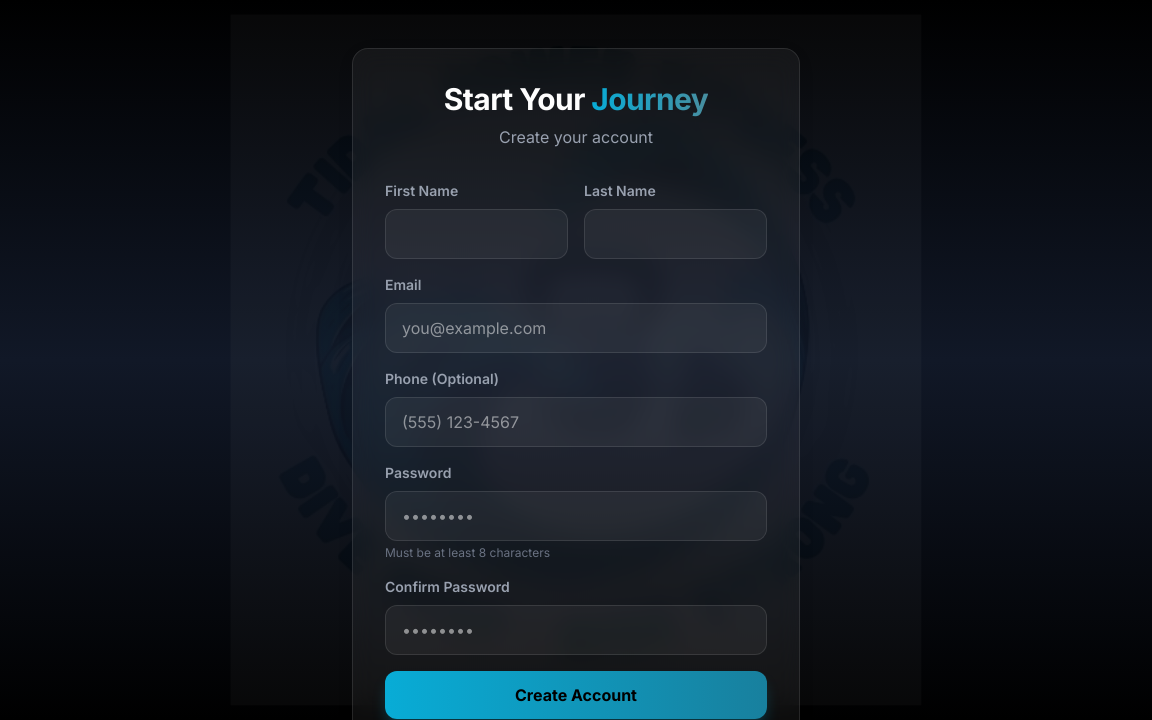
Test: RegisterPage › should show an error if passwords do not match
Type "John" into the field labelled "First Name". click: (476, 234)
box: [385,209,568,259]
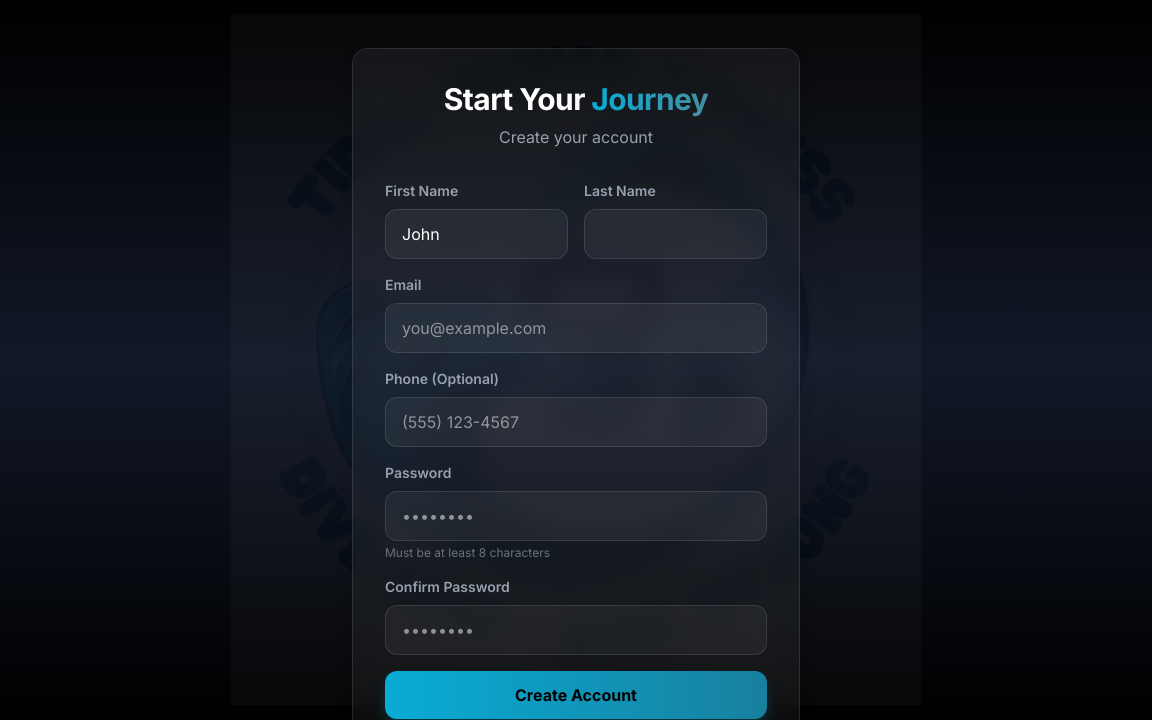
Type "Doe" into the field labelled "Last Name". click: (676, 234)
box: [584,209,767,259]
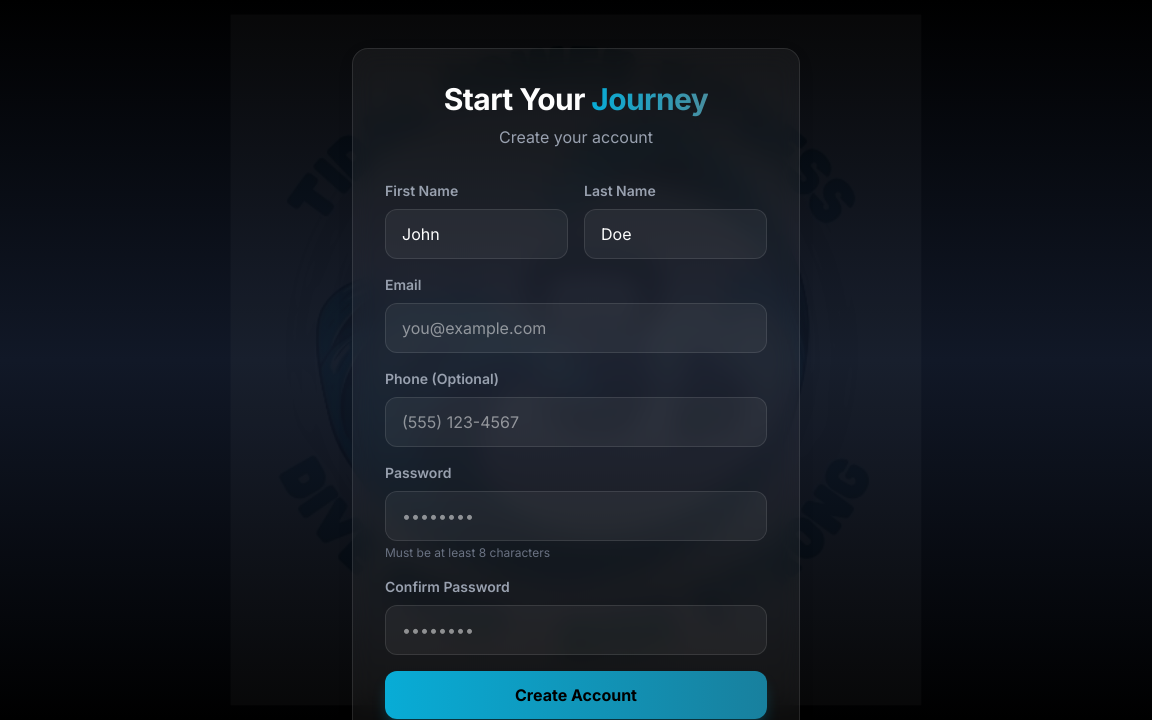
Type "john.doe@example.com" into the field labelled "Email". click: (576, 328)
box: [385,303,767,353]
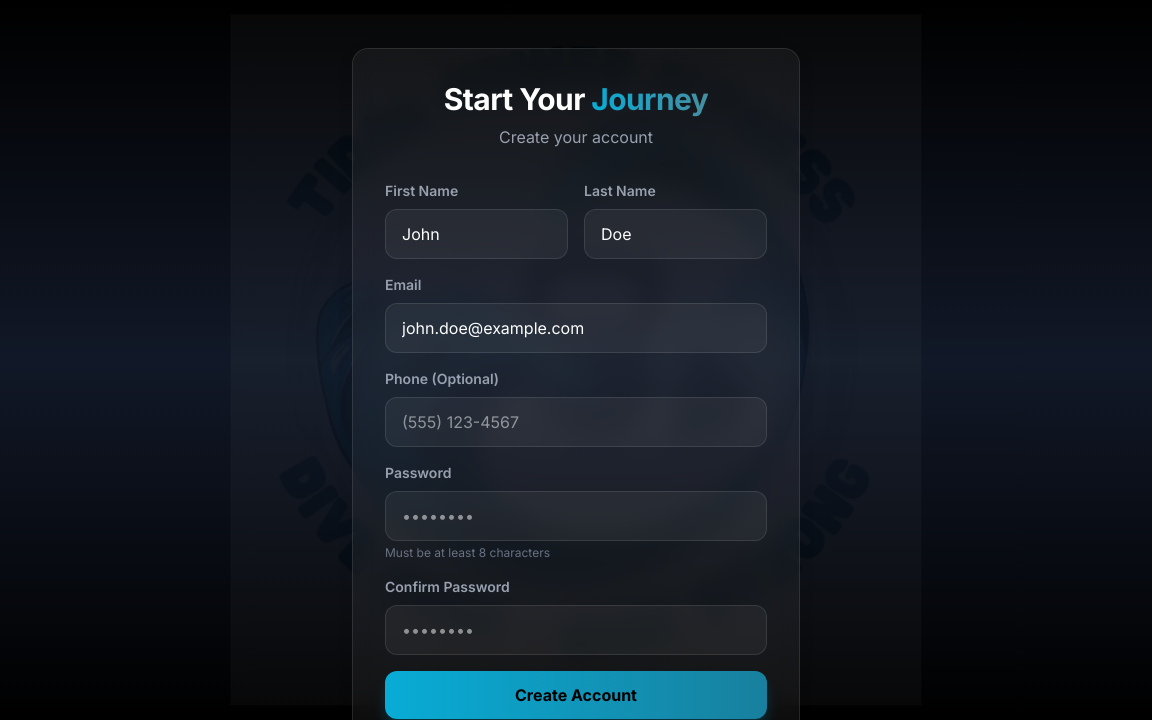
Type "password123" into the password field labelled "Password". click: (576, 516)
box: [385,491,767,541]
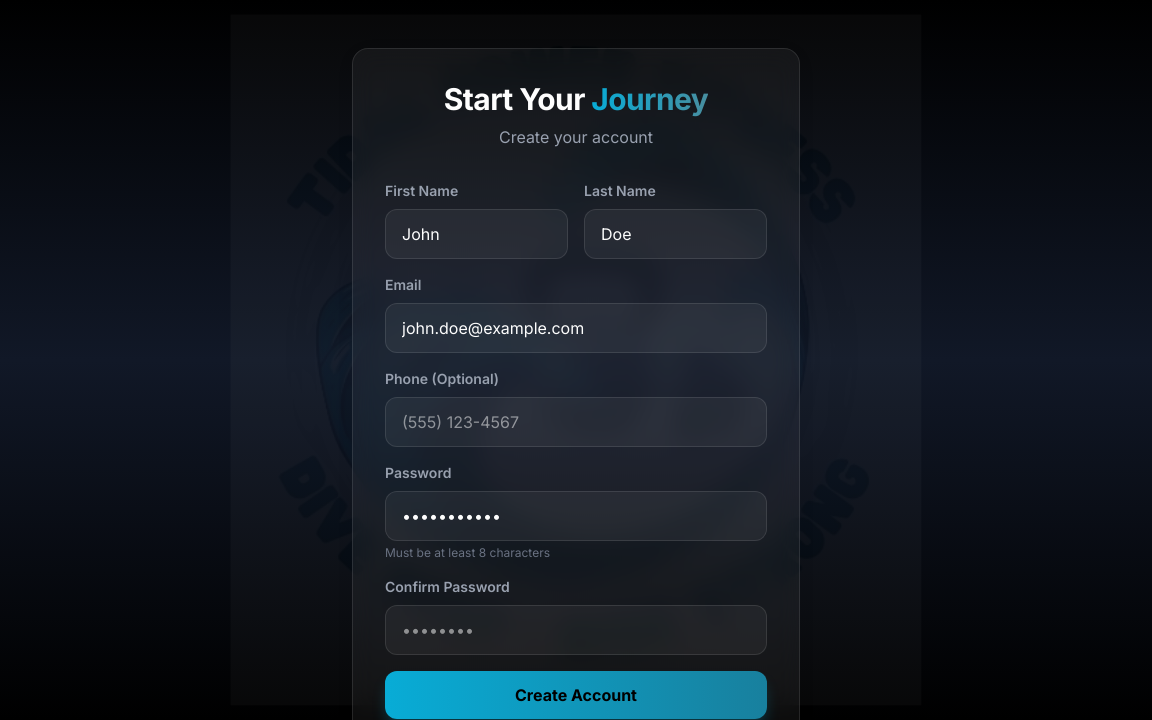
Type "password456" into the password field labelled "Confirm Password". click: (576, 630)
box: [385,605,767,655]
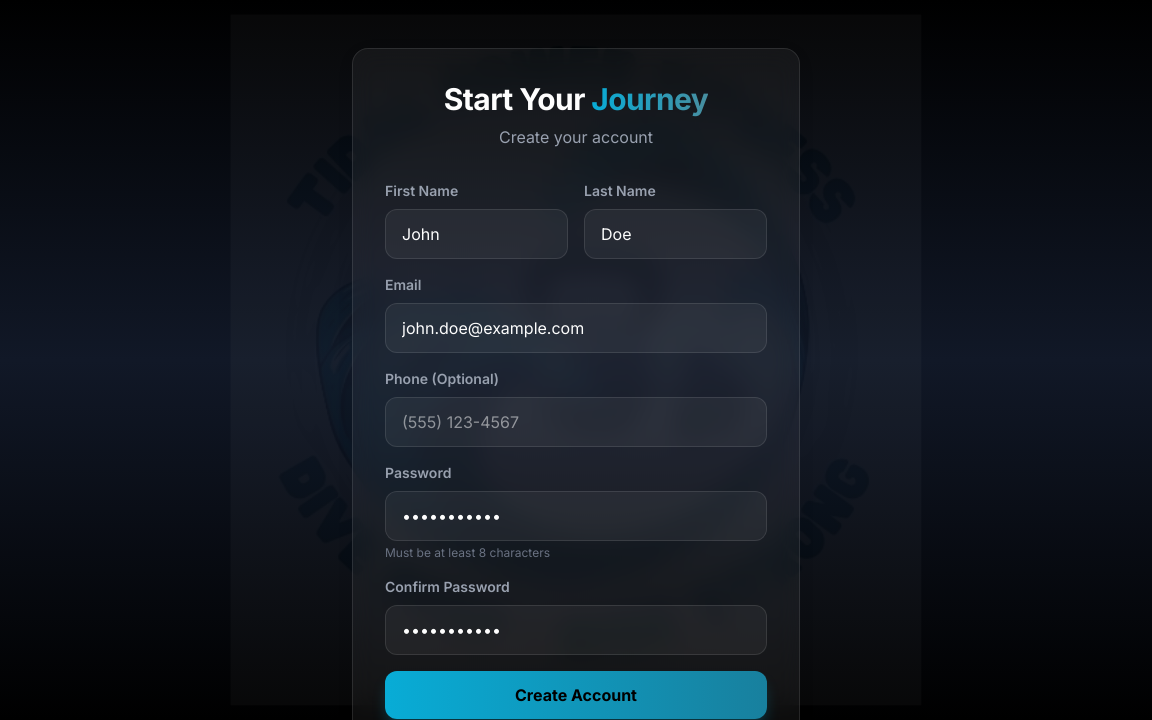
Click the button "Create Account". click: (576, 695)
box: [385,671,767,719]
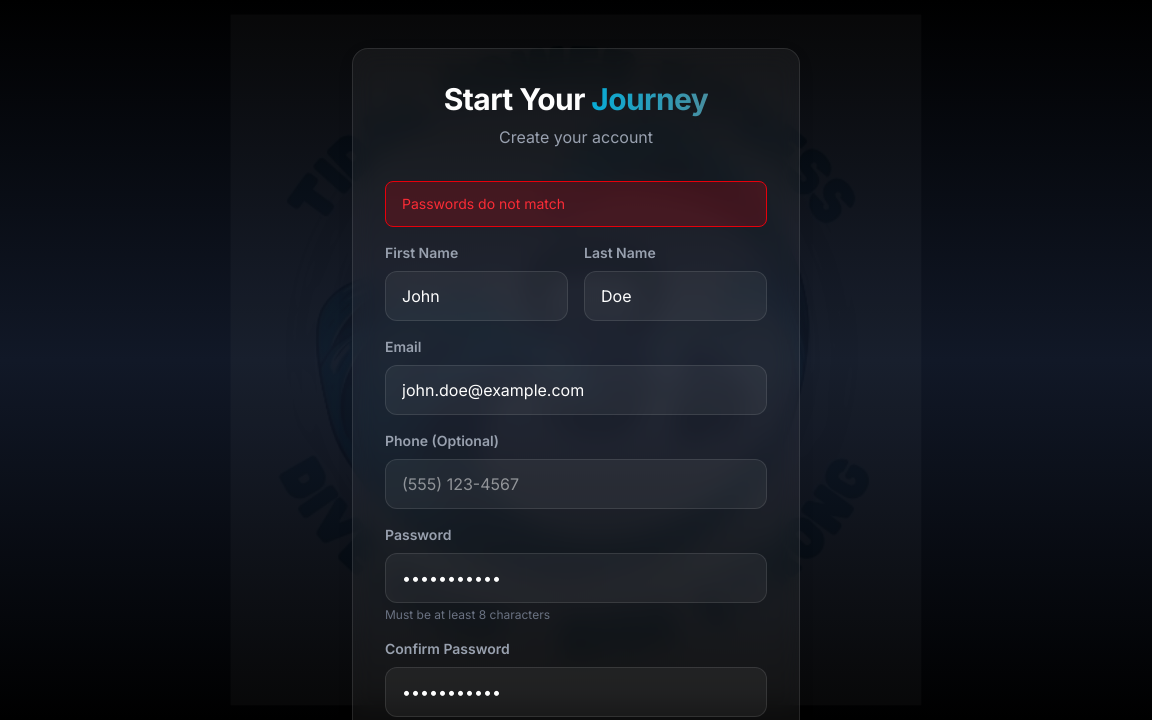
Now the text "Passwords do not match" is shown, box [385,181,767,227]
